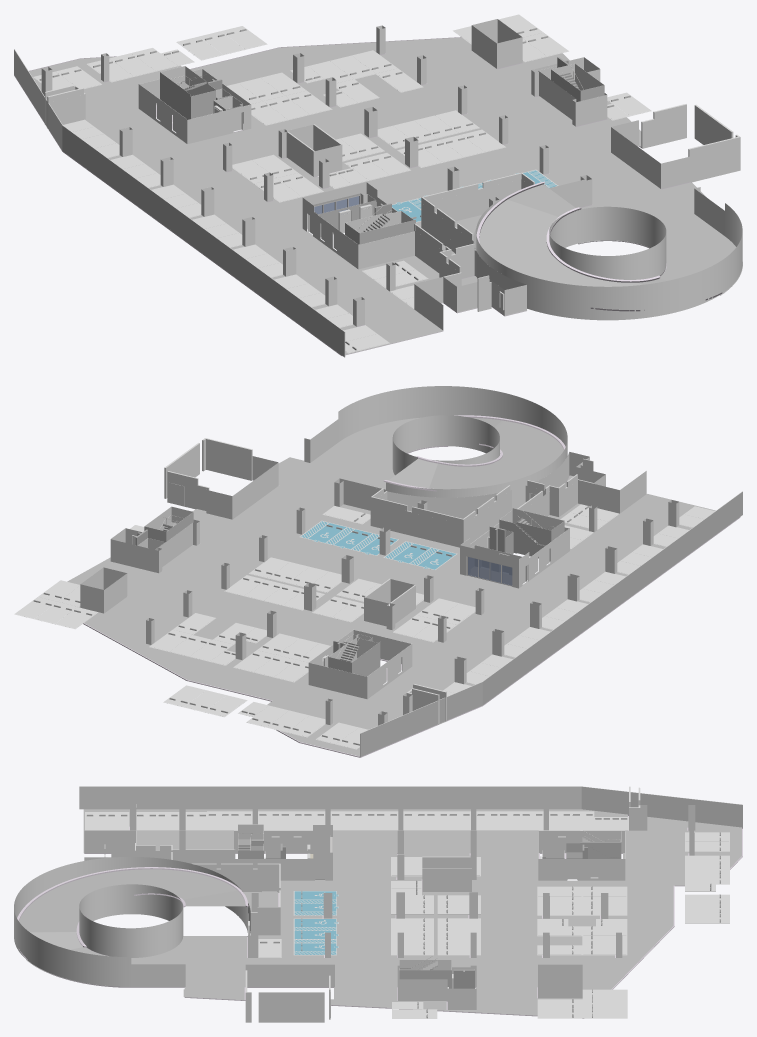
3 views of the same model, one above another, from view 1: azimuth 30°, elevation 25°; view 2: azimuth 150°, elevation 25°; view 3: azimuth 270°, elevation 25° (orthographic). The views are drawn at different scales.
Visible parts, largest first — view 1: A6-B3F; view 2: A6-B3F; view 3: A6-B3F.
Boxes of the visible parts, <box> form: A6-B3F: <box>14,14,742,357</box>; A6-B3F: <box>14,386,742,757</box>; A6-B3F: <box>14,786,742,1022</box>.
Size of the model in its own units: 58.1 by 4.75 by 84.15.
